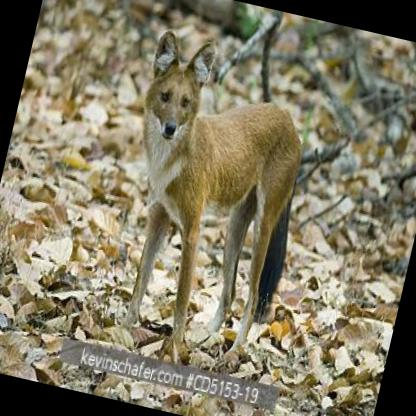dhole: (86, 25, 332, 371)
